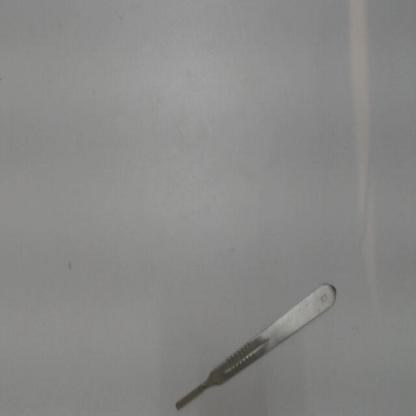No.4 BP Handle: (171, 281, 341, 413)
